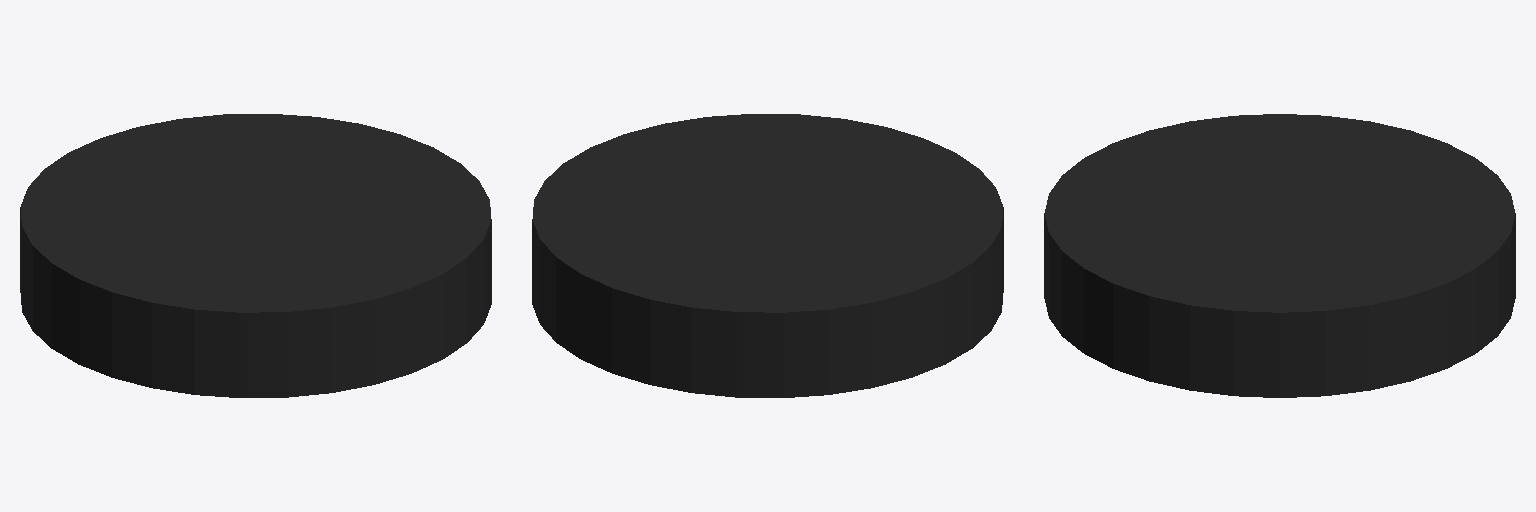
The robot description file, URDF, robot "kuka_lwr":
<?xml version="1.0" ?>
<robot name="kuka_lwr">
  <!-- Colors -->
  <material name="Grey">
    <color rgba="0.2 0.2 0.2 1.0"/>
  </material>
  <material name="Orange">
    <color rgba="1.0 0.423529411765 0.0392156862745 1.0"/>
  </material>
  <material name="Blue">
    <color rgba="0.5 0.7 1.0 1.0"/>      
  </material>
  <material name="Endeffector">
    <color rgba="0.9 0.9 0.9 1.0"/>      
  </material>

  <!-- SE2 Links -->
  <link name="world"/>
  <link name="empty_link_x"/>
  <link name="empty_link_y"/>
  <link name="base_link_robot">
    <inertial>
      <mass value="0.3"/>
      <origin xyz="0 0 0"/>
      <inertia ixx="0.000833333333333" ixy="0" ixz="0" iyy="0.000833333333333" iyz="0" izz="0.000833333333333"/>
    </inertial>
    <visual>
      <origin rpy="0 0 0" xyz="0 0 0"/>
      <geometry>
        <cylinder radius="0.25" length="0.1"/>
      </geometry>
      <material name="Grey"/>
    </visual>
    <collision>
      <origin rpy="0 0 0" xyz="0 0 0"/>
      <geometry>
        <cylinder radius="0.25" length="0.1"/>
      </geometry>
      <material name="Grey"/>
    </collision>
  </link>
  <joint name="joint_translation_x" type="prismatic">
    <origin xyz="-0.0 -0.0 0" rpy="0 0 0"/>
    <axis xyz="1 0 0"/>
    <parent link="world"/>
    <child link="empty_link_x"/>
    <limit effort="1" lower="-1.5" upper="1.5" velocity="1"/>
  </joint>
  <joint name="joint_translation_y" type="prismatic">
    <origin xyz="0 0 0" rpy="0 0 0"/>
    <axis xyz="0 1 0"/>
    <parent link="empty_link_x"/>
    <child link="empty_link_y"/>
    <limit effort="1" lower="-1.5" upper="1.5" velocity="1"/>
  </joint>
  <joint name="joint_rotation_yaw" type="continuous">
    <origin xyz="0 0 0" rpy="0 0 0"/>
    <axis xyz="0 0 1"/>
    <parent link="empty_link_y"/>
    <child link="base_link_robot"/>
  </joint>
</robot>

--- Facts derived from the render (not from the file) ---
The picture shows the robot from 3 angles, left to right: view 1: azimuth 30°, elevation 25°; view 2: azimuth 150°, elevation 25°; view 3: azimuth 270°, elevation 25°; orthographic projection.
Robot: kuka_lwr — 4 links, 3 joints (1 continuous, 2 prismatic); root link world; default pose: all joints at 0.
Links seen in each view (by area): view 1: base_link_robot; view 2: base_link_robot; view 3: base_link_robot.
Link boxes in pixels (bbox=[...]): base_link_robot: bbox=[20, 114, 491, 397]; base_link_robot: bbox=[532, 114, 1003, 397]; base_link_robot: bbox=[1044, 114, 1515, 397].
Bounding box of the posed robot: 0.5 × 0.5 × 0.1 m (x, y, z).
Geometry: primitives only (box / cylinder / sphere), no mesh files.
